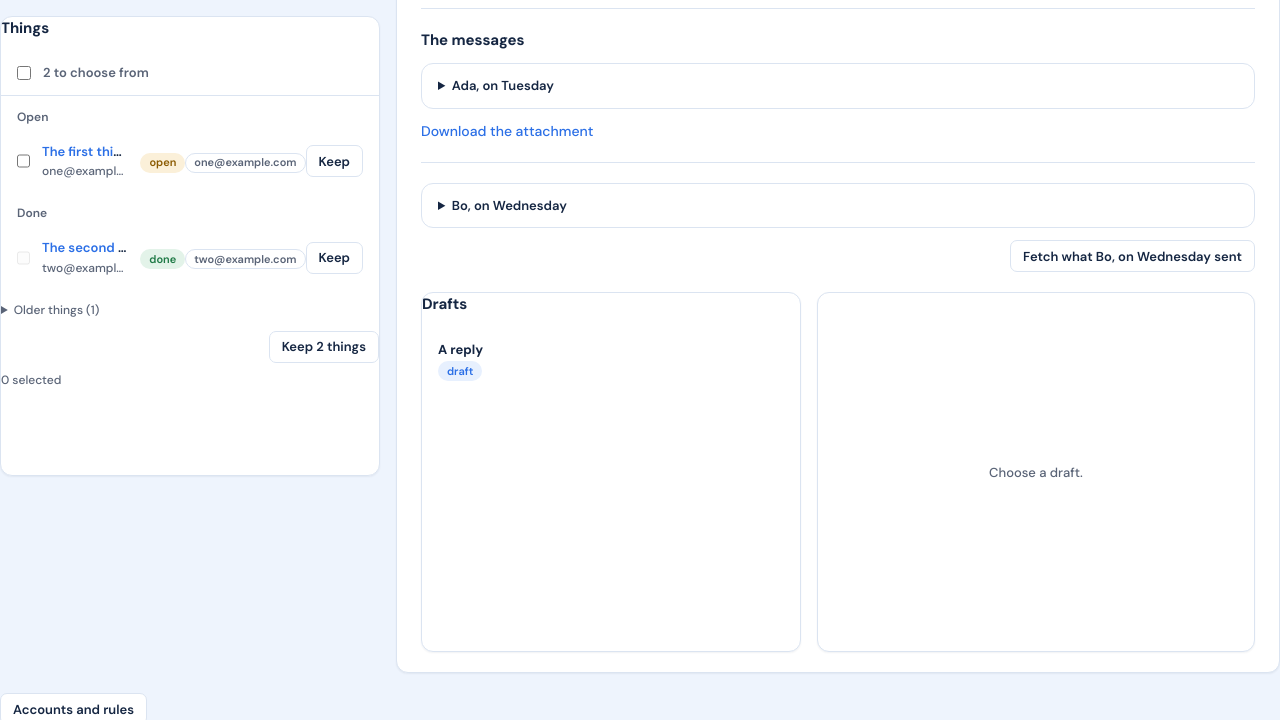
Scenario: the pieces a descriptor is made of › shows what is there now under the sentence saying why the save was refused
(page scrolled)
Click the link "A reply draft" at (461, 361), box [438,341,483,382]
(page scrolled)
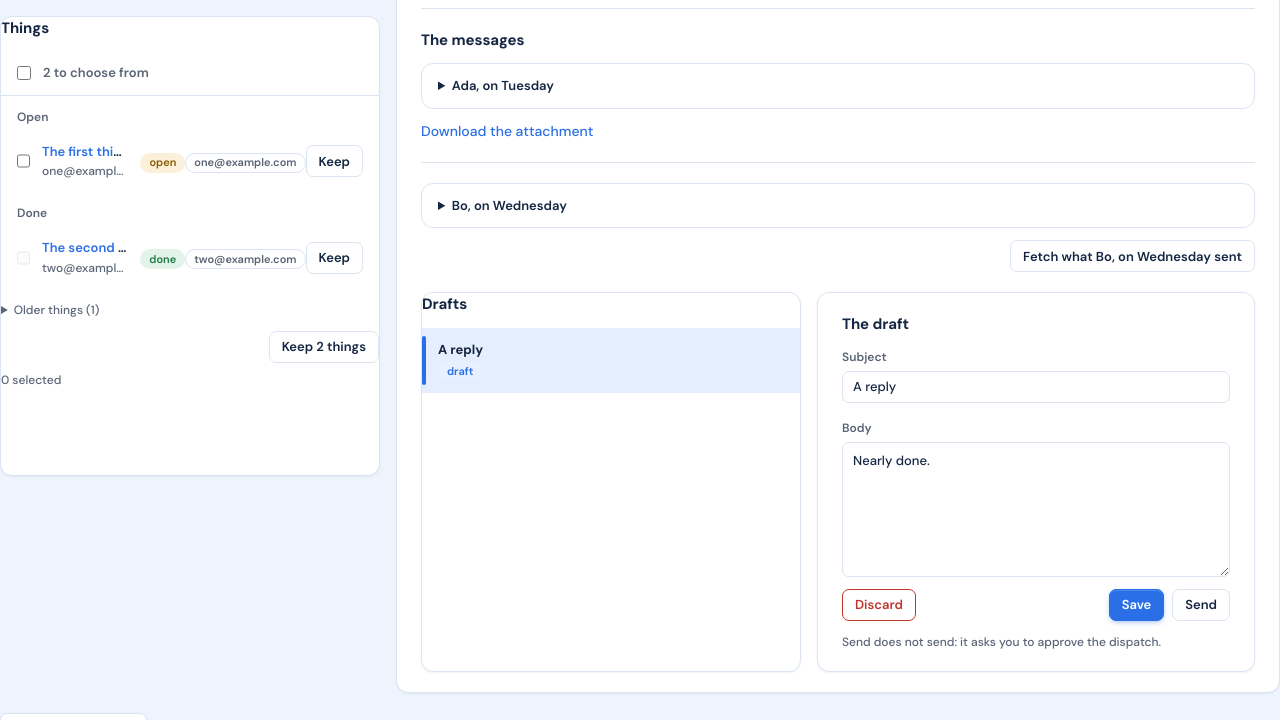
Click the button "Save" at (1136, 605), box [1109,589,1164,621]
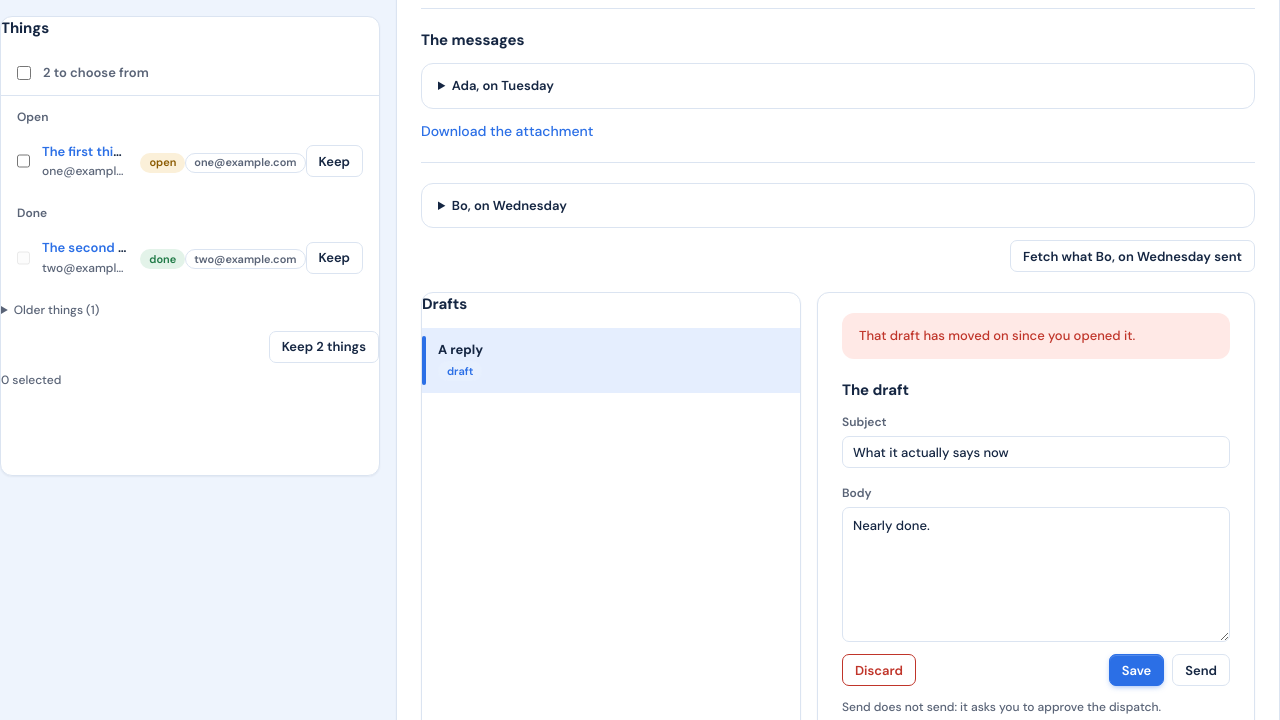
Expected: the field labelled "Subject" holds "What it actually says now", [842,436,1230,468]
Expected: the text "That draft has moved on since you opened it." is shown, [842,314,1230,359]
